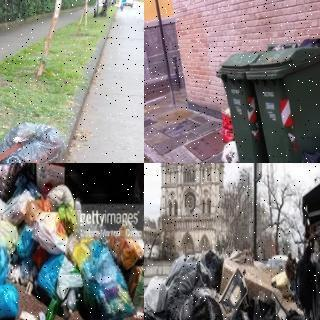Garbage: (78, 236, 132, 320), (0, 119, 67, 163), (30, 211, 69, 254), (170, 290, 225, 320), (144, 274, 167, 310), (216, 106, 234, 140), (220, 141, 239, 163), (0, 244, 8, 291), (278, 308, 309, 320)
